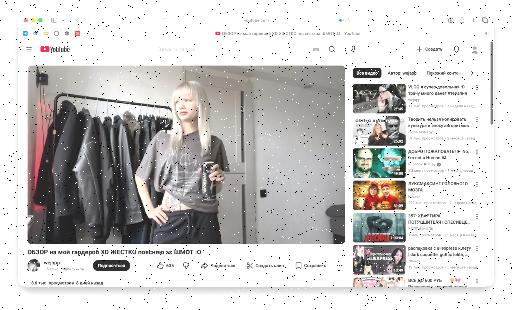youtube: (18, 40, 492, 288)
